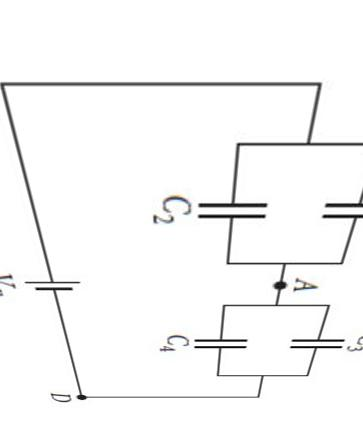Battery: (27, 261, 96, 304)
